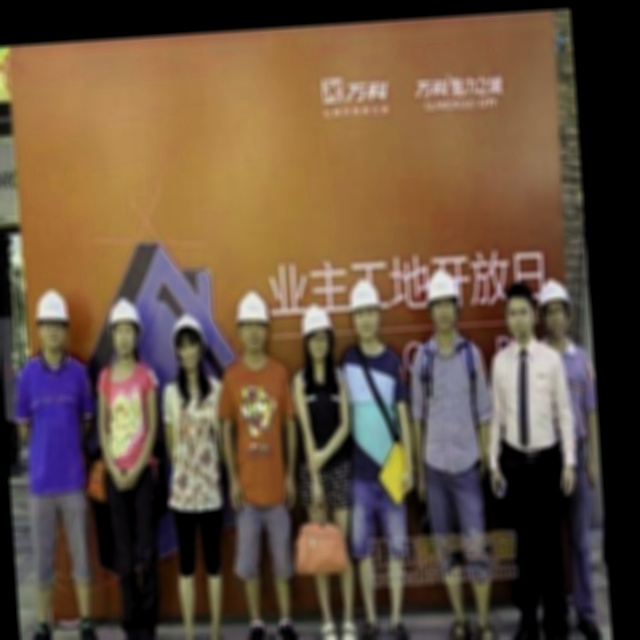Sin_Casco_Mascarrilla: (504, 289, 537, 336)
Sin_Chaleco: (223, 353, 296, 504), (15, 352, 89, 498), (411, 335, 489, 469)
